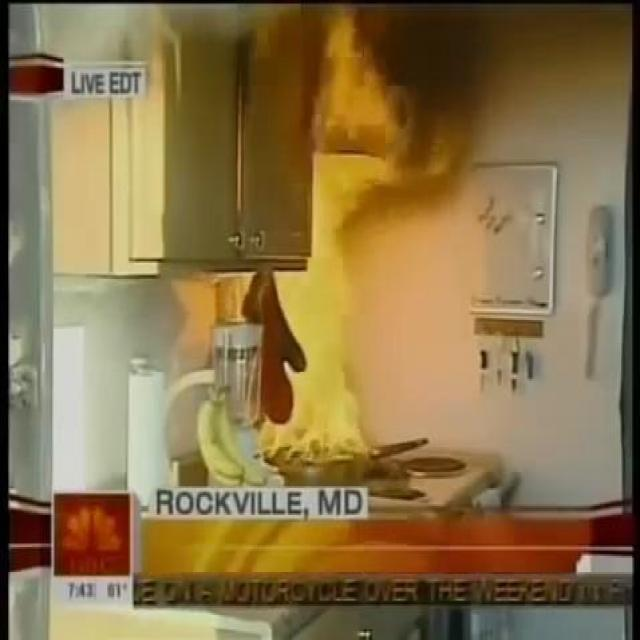fire: (250, 42, 415, 479)
